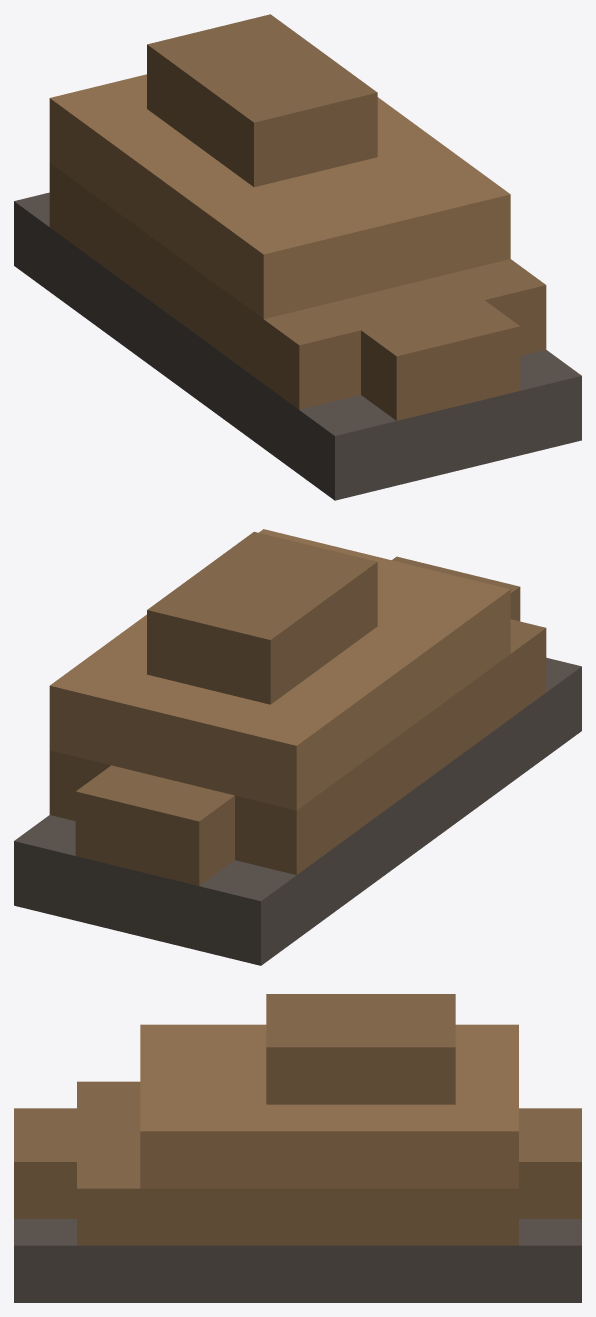
Rendered from foot.glb.
The picture shows the model from 3 angles, top to bottom: view 1: azimuth 30°, elevation 25°; view 2: azimuth 150°, elevation 25°; view 3: azimuth 270°, elevation 25°; orthographic projection. The views are drawn at different scales.
Visible parts, largest first — view 1: foot; view 2: foot; view 3: foot.
Boxes of the visible parts, bbox=[...] form: foot: bbox=[14, 14, 581, 500]; foot: bbox=[14, 529, 581, 965]; foot: bbox=[14, 994, 581, 1302].
Bounding box in the file's own units: 0.5 × 0.5 × 1.12.
